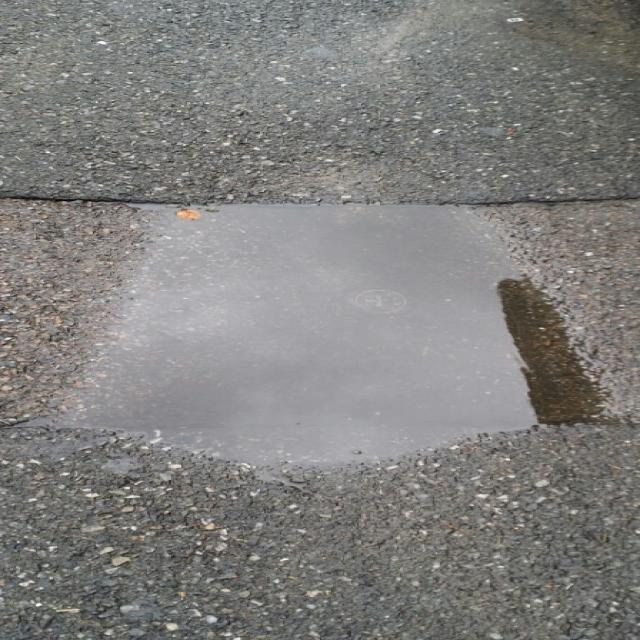puddle: (47, 200, 610, 472)
